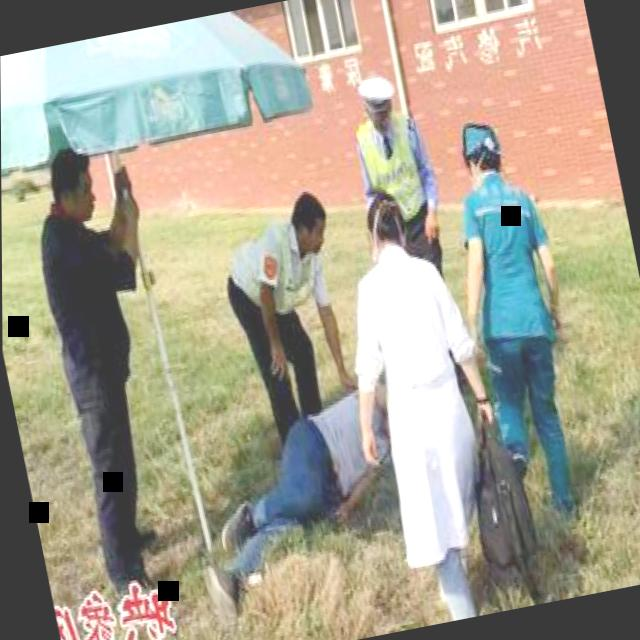Fall-Detected: (166, 358, 437, 616)
